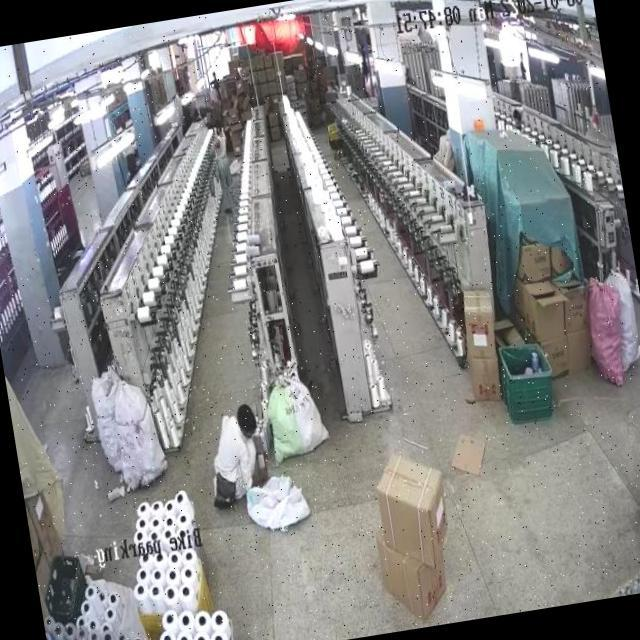person: (202, 401, 270, 506)
